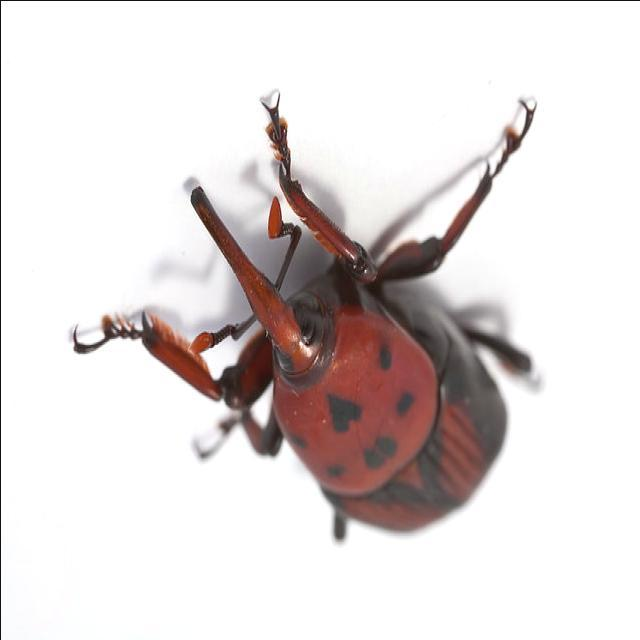Red-palm-weevil: (166, 156, 512, 534)
